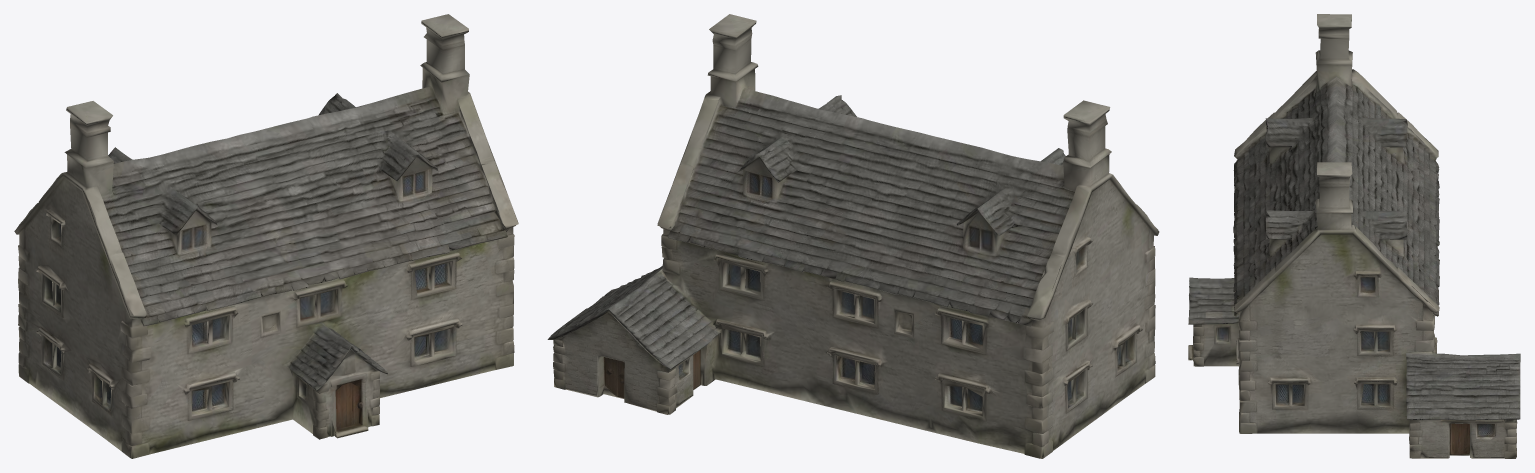
File: woolsthorpe_manor.glb
3 renders of one model, left to right at view 1: azimuth 30°, elevation 25°; view 2: azimuth 150°, elevation 25°; view 3: azimuth 270°, elevation 25°, orthographic. The views are drawn at different scales.
Parts seen in each view (by area): view 1: tripo_node_5cdaabd2-3077-44e4-9a37-e25ddab0e131; view 2: tripo_node_5cdaabd2-3077-44e4-9a37-e25ddab0e131; view 3: tripo_node_5cdaabd2-3077-44e4-9a37-e25ddab0e131.
Part boxes in pixels (x1,y1,x2,y2): tripo_node_5cdaabd2-3077-44e4-9a37-e25ddab0e131: (14, 14, 518, 458); tripo_node_5cdaabd2-3077-44e4-9a37-e25ddab0e131: (547, 14, 1159, 458); tripo_node_5cdaabd2-3077-44e4-9a37-e25ddab0e131: (1188, 14, 1520, 458).
Size of the model in its own units: 0.979 by 0.6295 by 0.7282.
1 material, 1 textured.
